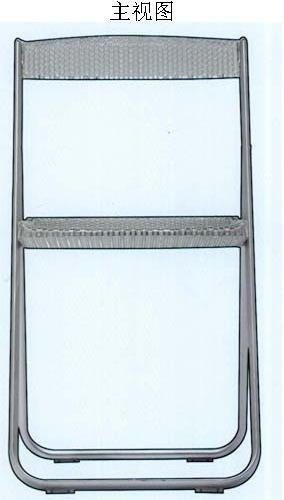obstacle: (9, 35, 260, 493)
